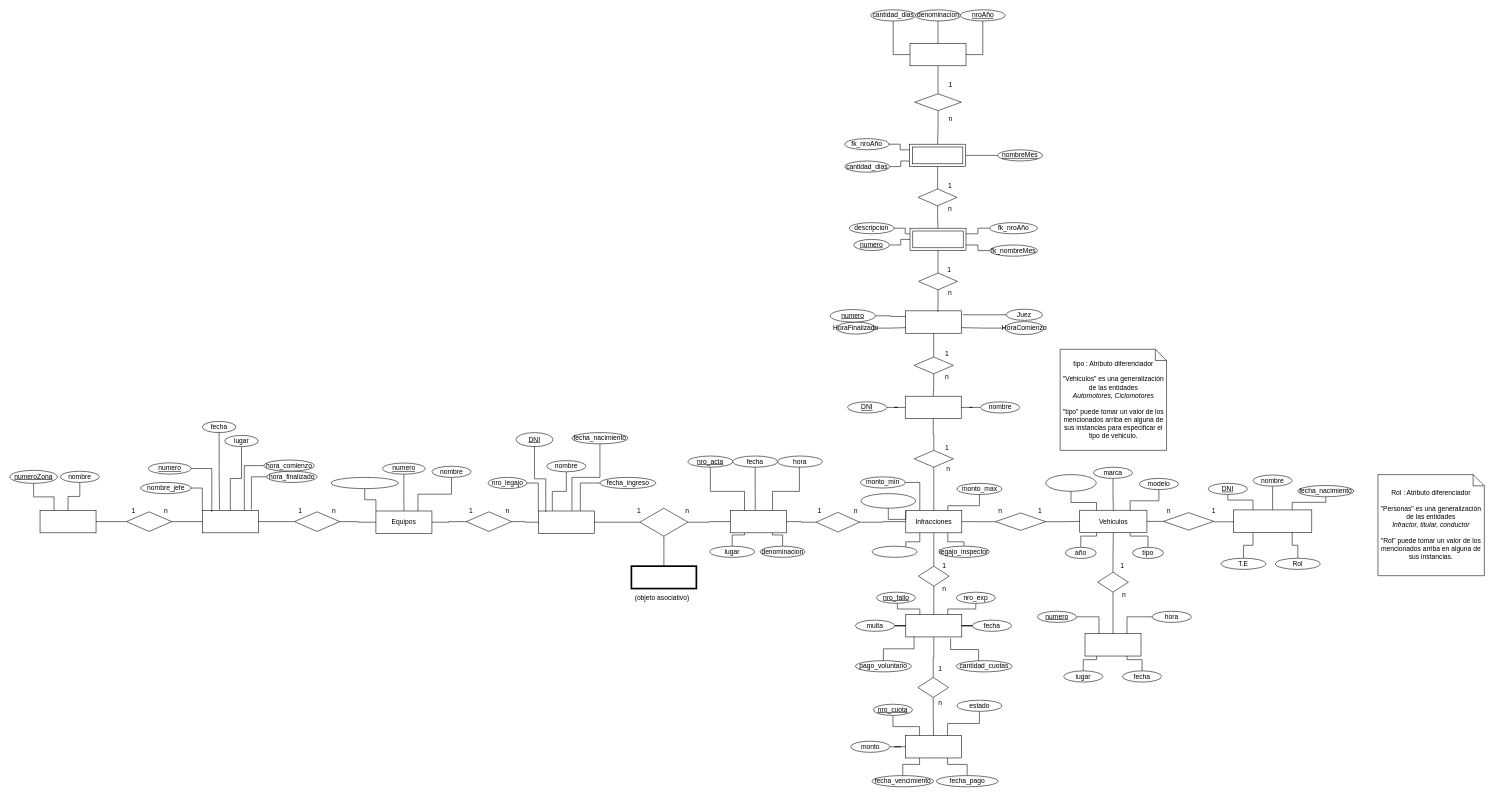
The diagram is 1495 pixels wide and 797 high, and some of its shapes have lost their labels. Each missing label, with the centre of its shape:
Accidentes: point 1112,644
Acta de Infraccion: point 758,521
Años: point 937,54
cantidad_inspectores: point 364,483
codigoInfraccion: point 888,500
comisiones_ganadas: point 663,577
Cuotas: point 933,746
Dias: point 937,239
Fallos: point 933,625
Inspectores: point 566,521
Jueces: point 933,407
Meses: point 937,155
nro_operativo: point 894,551
num_dominio: point 1070,482
Operativos: point 230,521
Personas: point 1272,520
Turnos: point 933,321
Zonas: point 67,521
